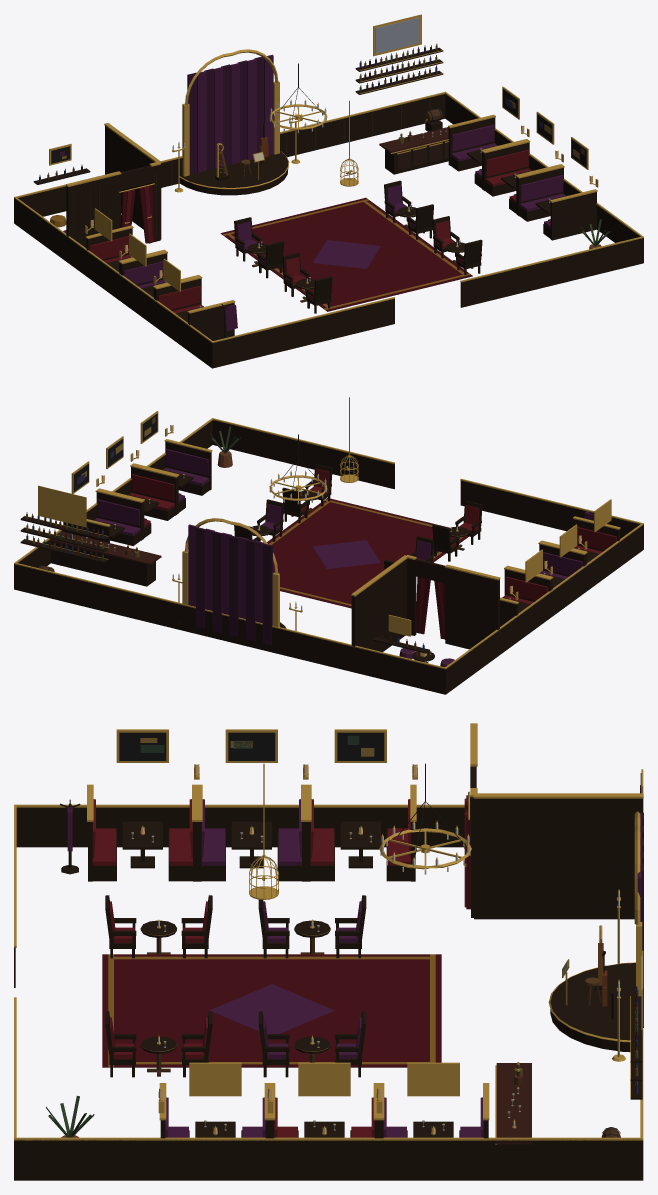
The model's file is gilded-finch.glb.
3 renders of one model, top to bottom at view 1: azimuth 30°, elevation 25°; view 2: azimuth 150°, elevation 25°; view 3: azimuth 270°, elevation 25°, orthographic. The views are drawn at different scales.
Visible parts, largest first — view 1: gilded-finch; view 2: gilded-finch; view 3: gilded-finch.
Part boxes in pixels (<box>): gilded-finch: <box>14,14,643,368</box>; gilded-finch: <box>14,397,643,694</box>; gilded-finch: <box>14,723,643,1180</box>.
Bounding box in the file's own units: 19.6 × 6.82 × 15.6.
